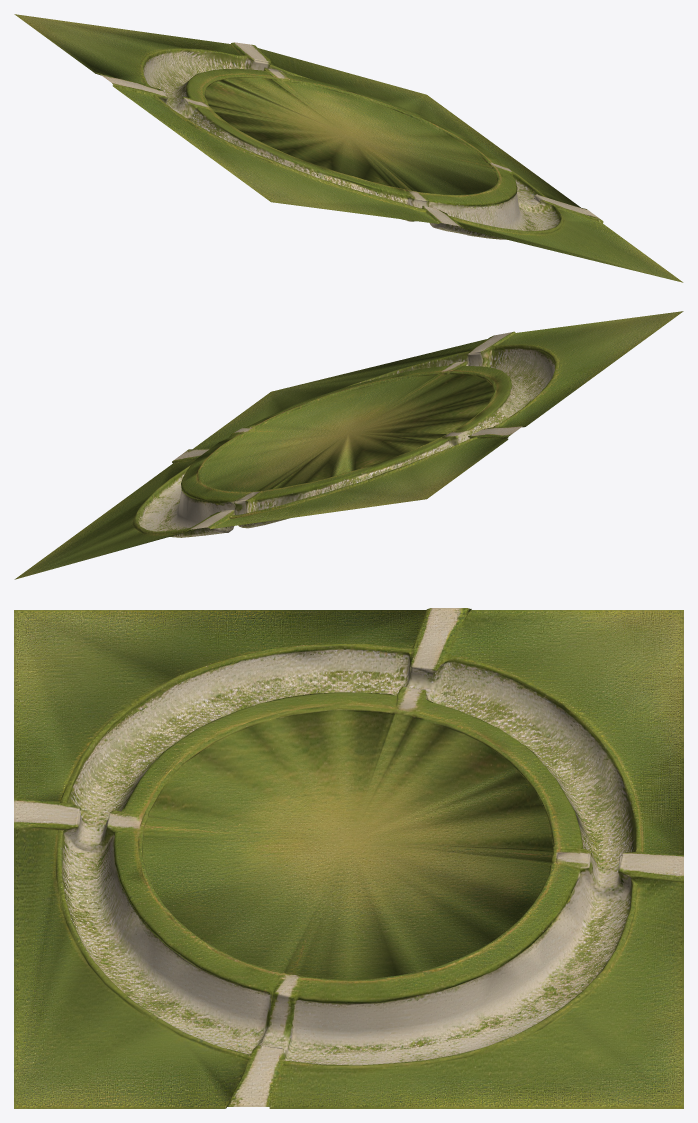
3 views of the same model, one above another, from view 1: azimuth 30°, elevation 25°; view 2: azimuth 150°, elevation 25°; view 3: azimuth 270°, elevation 25° (orthographic). The views are drawn at different scales.
Visible parts, largest first — view 1: tripo_node_d4d39fdc-c4fc-4a6c-9d3f-a2f7690ffc9e; view 2: tripo_node_d4d39fdc-c4fc-4a6c-9d3f-a2f7690ffc9e; view 3: tripo_node_d4d39fdc-c4fc-4a6c-9d3f-a2f7690ffc9e.
Boxes of the visible parts, box(x1,y1,x2,y2) form: tripo_node_d4d39fdc-c4fc-4a6c-9d3f-a2f7690ffc9e: box(14, 14, 683, 282); tripo_node_d4d39fdc-c4fc-4a6c-9d3f-a2f7690ffc9e: box(14, 311, 683, 579); tripo_node_d4d39fdc-c4fc-4a6c-9d3f-a2f7690ffc9e: box(14, 608, 683, 1108).
Size of the model in its own units: 0.9277 by 0.3926 by 0.998.
Materials: 1 (1 with a texture image).
